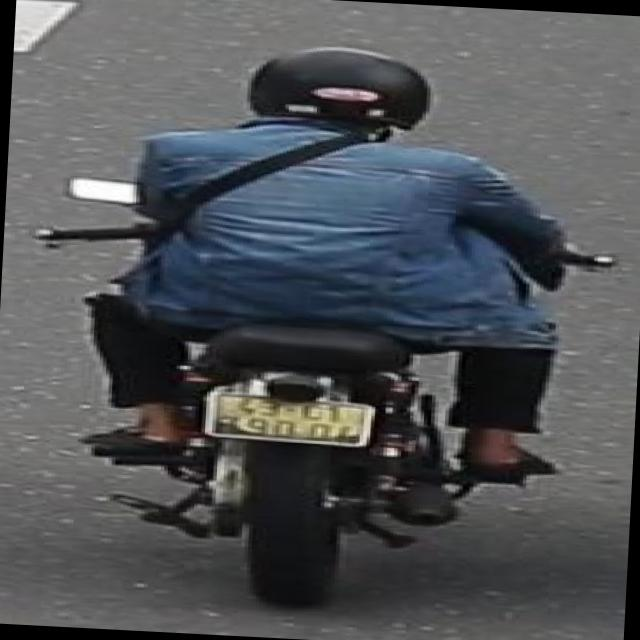LP: (199, 390, 381, 452)
helmet: (240, 38, 445, 141)
